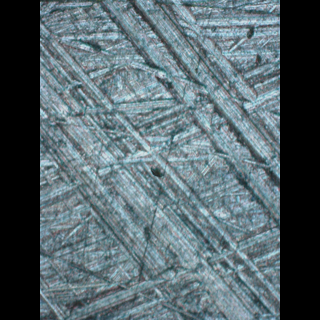d: (40, 0, 277, 313)
